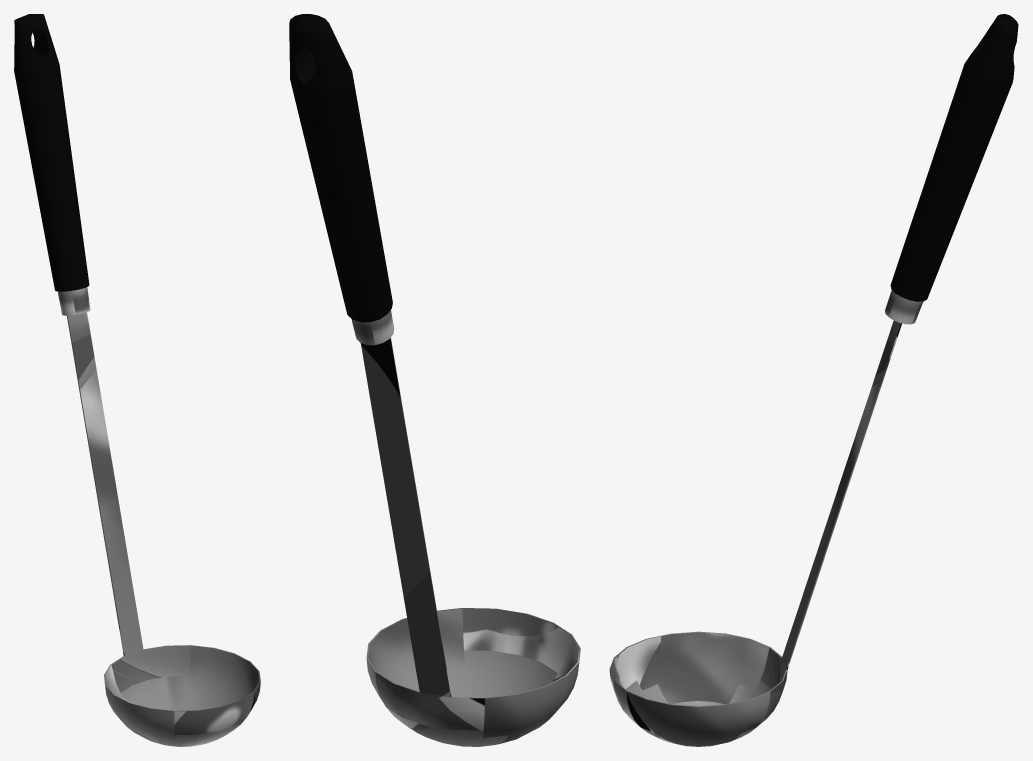
Rendered from おたま.fbx.
The picture shows the model from 3 angles, left to right: view 1: azimuth 30°, elevation 25°; view 2: azimuth 150°, elevation 25°; view 3: azimuth 270°, elevation 25°; orthographic projection. The views are drawn at different scales.
Parts seen in each view (by area): view 1: polySurface1; view 2: polySurface1; view 3: polySurface1.
Part boxes in pixels (x1=…): polySurface1: x1=14, y1=14, x2=260, y2=746; polySurface1: x1=289, y1=14, x2=580, y2=746; polySurface1: x1=609, y1=14, x2=1018, y2=746.
Bounding box in the file's own units: 2 × 8.78 × 4.59.
1 material, 1 textured.
